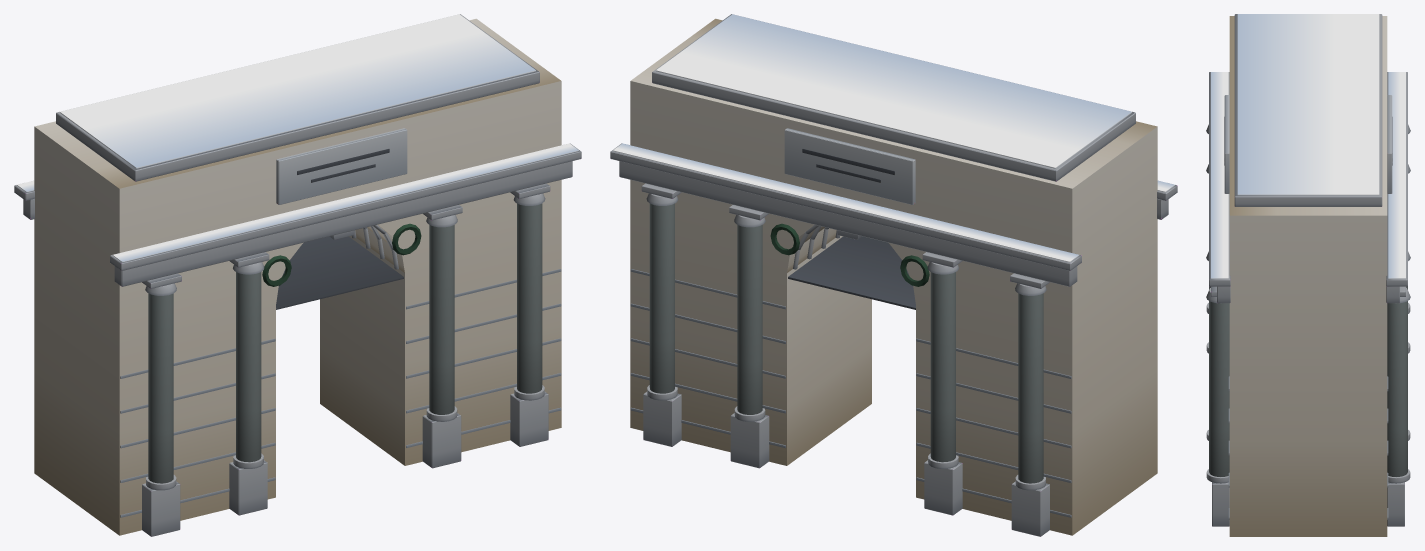
The model's file is ck_landmark_arch.fbx.
The picture shows the model from 3 angles, left to right: view 1: azimuth 30°, elevation 25°; view 2: azimuth 150°, elevation 25°; view 3: azimuth 270°, elevation 25°; orthographic projection. The views are drawn at different scales.
Parts seen in each view (by area): view 1: ck_landmark_arch; view 2: ck_landmark_arch; view 3: ck_landmark_arch.
Boxes of the visible parts, bbox=[...] form: ck_landmark_arch: bbox=[14, 14, 581, 536]; ck_landmark_arch: bbox=[610, 14, 1177, 536]; ck_landmark_arch: bbox=[1206, 14, 1410, 536].
Size of the model in its own units: 5000 by 3731 by 2080.
